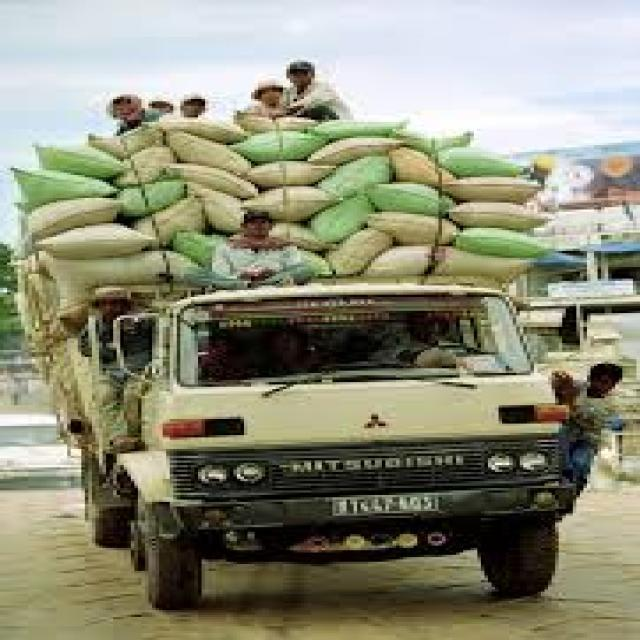uncovered: (24, 115, 624, 614)
